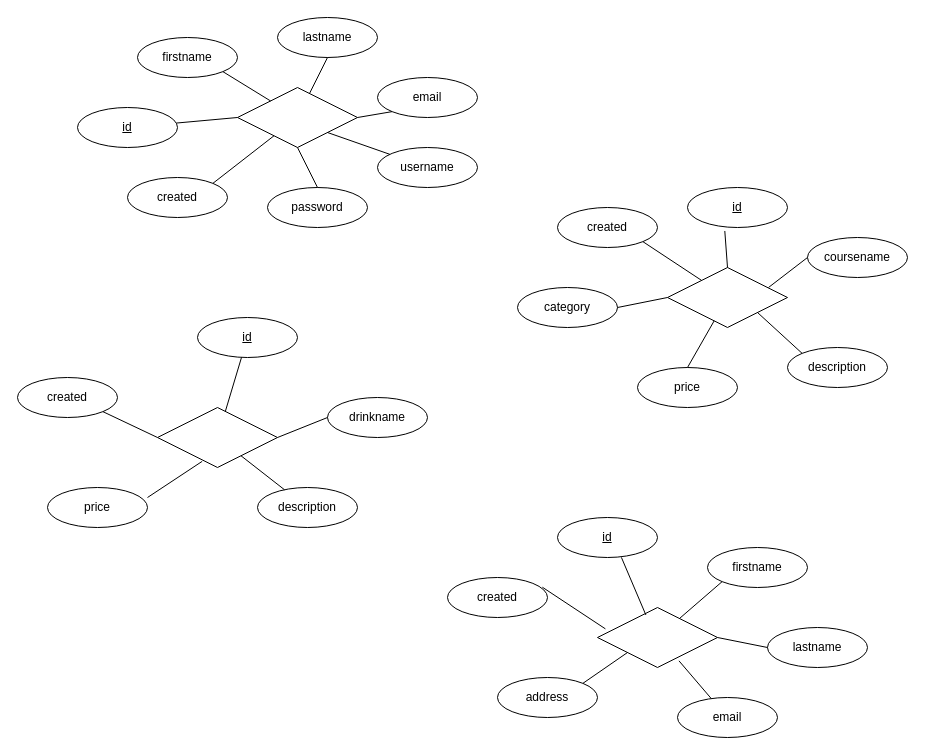
Image size: 925x755. Some labels were removed from this diagram. Each missing label, with the centre of its shape:
"admin_user" goes at [297,117].
"courses" goes at [727,297].
"drinks" goes at [217,437].
"subscribers" goes at [657,637].
